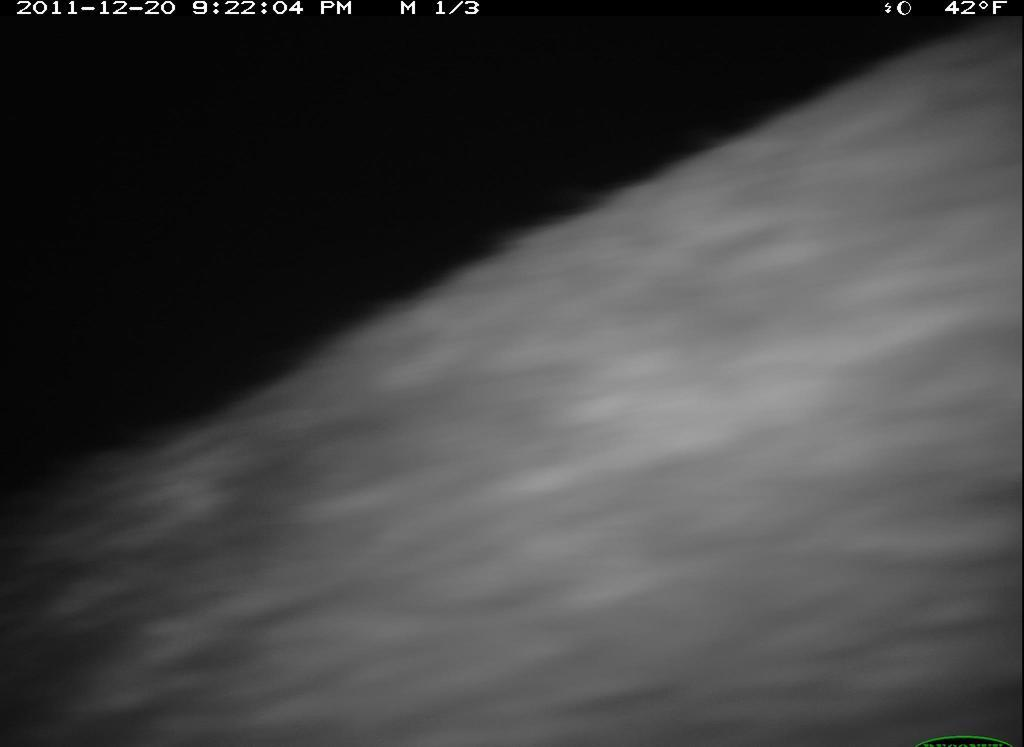raccoon: (2, 8, 1024, 747)
